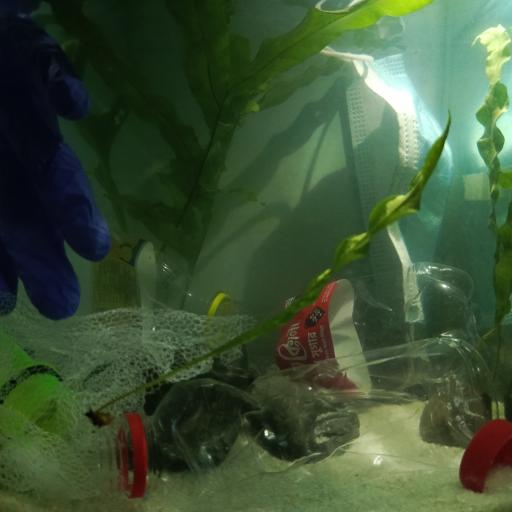bottle_cap: (460, 416, 512, 491)
glove: (0, 14, 111, 320)
mask: (325, 46, 456, 326)
net: (0, 291, 256, 510)
plastic_bottle: (94, 336, 504, 500), (249, 260, 482, 393), (62, 236, 246, 320), (0, 328, 73, 442)
